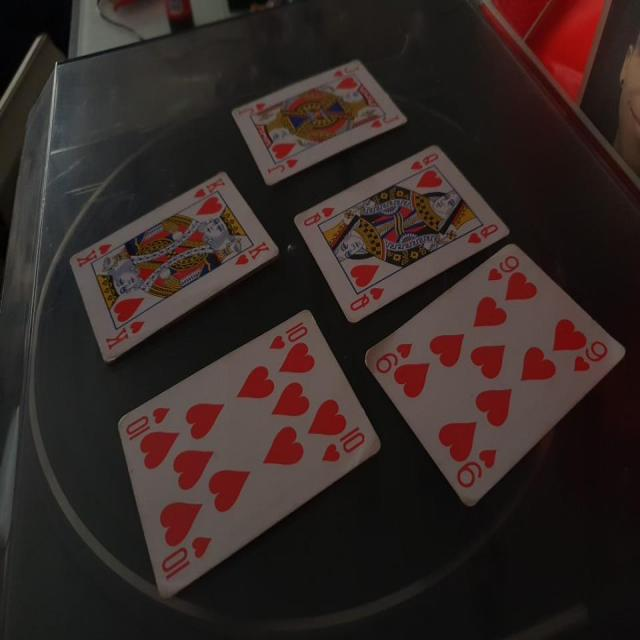10 Hearts: (111, 308, 386, 602)
9 Hearts: (355, 234, 630, 509)
J Hearts: (229, 54, 408, 193)
K Hearts: (73, 169, 279, 375)
Q Hearts: (291, 136, 514, 333)
